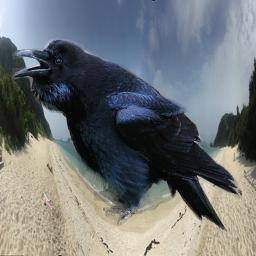Crow: (12, 38, 240, 235)
